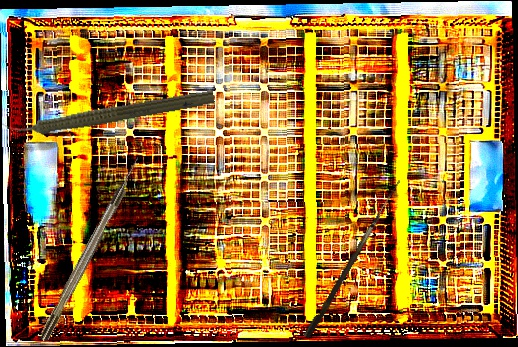Handpiece: (1, 81, 216, 145)
Hook Surgical: (37, 155, 144, 343), (303, 175, 401, 341)
